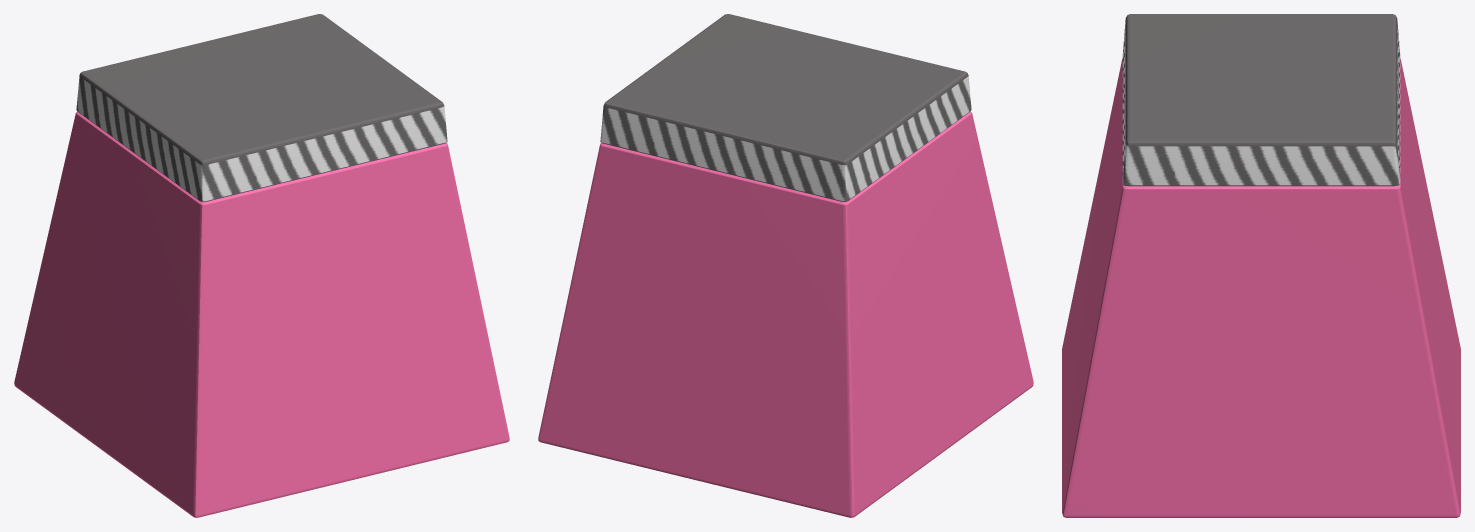
The model's file is PLF0110037.fbx.
3 views of the same model, side by side, from view 1: azimuth 30°, elevation 25°; view 2: azimuth 150°, elevation 25°; view 3: azimuth 270°, elevation 25° (orthographic). The views are drawn at different scales.
Parts seen in each view (by area): view 1: smPLF0110037; view 2: smPLF0110037; view 3: smPLF0110037.
Boxes of the visible parts, x1=… form: smPLF0110037: x1=14, y1=14, x2=509, y2=517; smPLF0110037: x1=538, y1=14, x2=1033, y2=517; smPLF0110037: x1=1062, y1=14, x2=1460, y2=517.
Bounding box in the file's own units: 404 × 400 × 404.
1 material, 1 textured.
